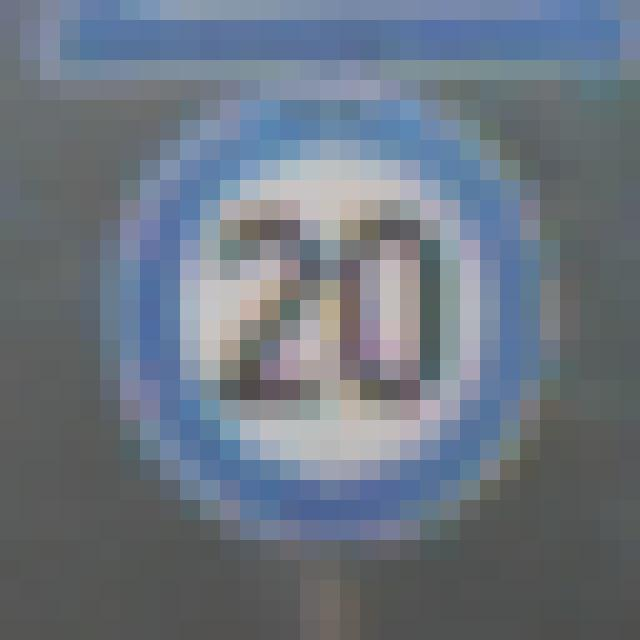SPEED LIMIT 20: (92, 80, 584, 566)
